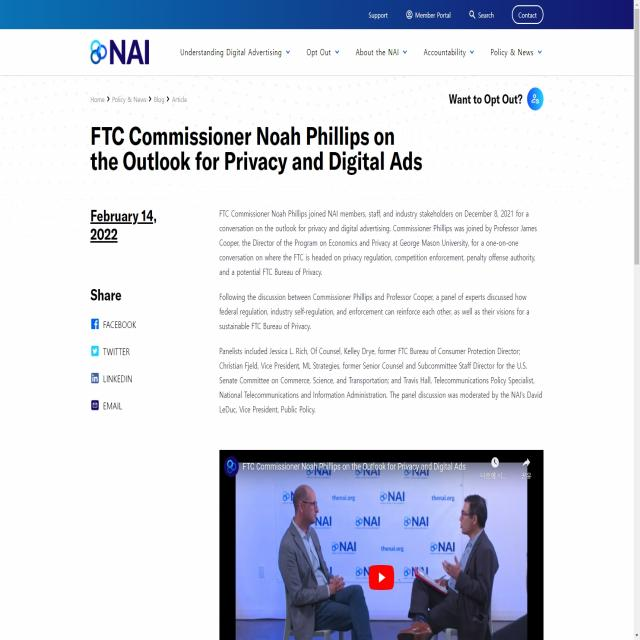menu-bar: (176, 38, 547, 62), (358, 1, 549, 27)
side-panel: (79, 199, 194, 639)
